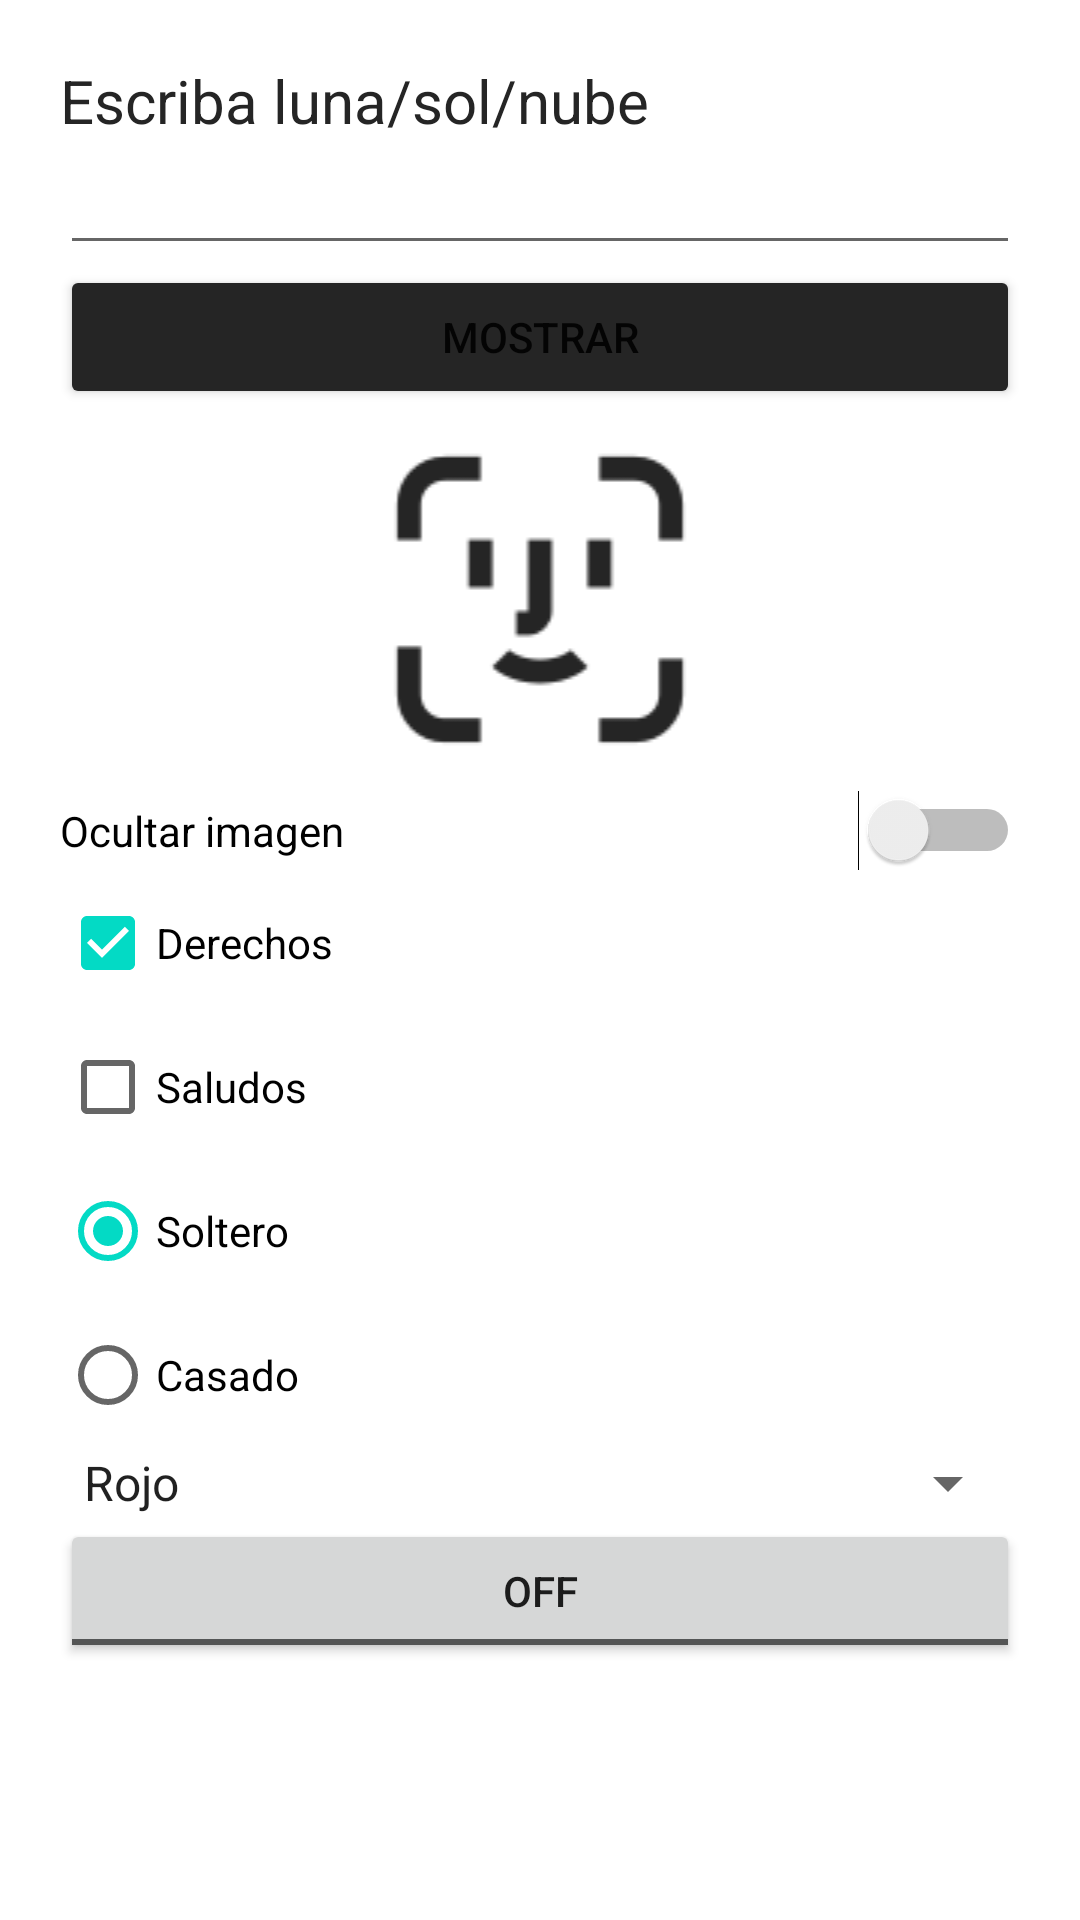

Screen size 1080px×1920px. Icon name, then its box in pixels as bbox(x1, y1, x2, y2):
face: bbox(396, 455, 684, 743)
